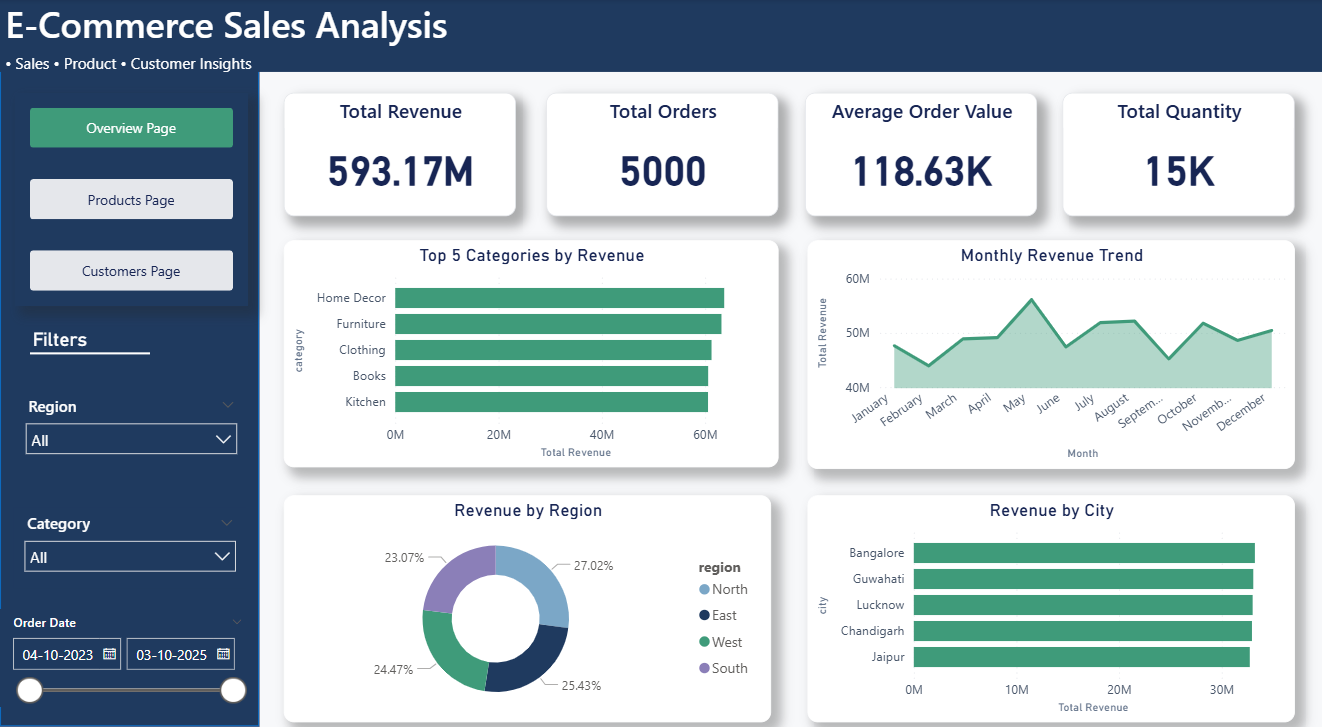

Layout of this report page (visuals, bound fields, positions):
{"tool":"powerbi","page":{"name":"Overview Page","canvas":[1280,720],"ordinal":0},"visuals":[{"type":"shape","box":[20.5,272.7,86.9,45.8],"z":0},{"type":"shape","box":[0,52.2,250,650],"z":1000},{"type":"card","title":"Total Revenue","fields":{"Values":["ecommerce_sales.Total Revenue"]},"box":[273.9,90.5,224.4,119.4],"z":2000},{"type":"card","title":"Total Orders","fields":{"Values":["ecommerce_sales.Total Orders"]},"box":[527.2,90.5,224.4,119.4],"z":3000},{"type":"card","title":"Total Quantity","fields":{"Values":["ecommerce_sales.Total Quantity"]},"box":[1025.5,90.5,224.4,119.4],"z":4000},{"type":"card","title":"Average Order Value","fields":{"Values":["ecommerce_sales.Average Order Value"]},"box":[776.9,90.5,224.4,119.4],"z":5000},{"type":"slicer","title":"Region","fields":{"Values":["ecommerce_sales.region"]},"box":[14.5,377.6,224.4,79.6],"z":6000},{"type":"slicer","fields":{"Values":["ecommerce_sales.category"]},"box":[13.3,491,224.4,77.2],"z":7000},{"type":"slicer","fields":{"Values":["ecommerce_sales.order_date"]},"box":[0,588.7,246.1,94.1],"z":8000},{"type":"clusteredBarChart","title":"Top 5 Categories by Revenue","fields":{"Category":["ecommerce_sales.category"],"Y":["ecommerce_sales.Total Revenue"]},"box":[273.9,232.8,477.8,219.6],"z":9000},{"type":"donutChart","title":"Revenue by Region","fields":{"Category":["ecommerce_sales.region"],"Y":["ecommerce_sales.Total Revenue"]},"box":[273.9,479,470.5,219.6],"z":10000},{"type":"lineChart","title":"Monthly Revenue Trend","fields":{"Category":["ecommerce_sales.order_date.Variation.Date Hierarchy.Month"],"Y":["ecommerce_sales.Total Revenue"]},"box":[779.4,232.8,470.5,220.8],"z":11000},{"type":"clusteredBarChart","title":"Revenue by City","fields":{"Category":["ecommerce_sales.city"],"Y":["ecommerce_sales.Total Revenue"]},"box":[779.4,479,470.5,219.6],"z":12000},{"type":"pageNavigator","box":[14.4,90,224.4,205.6],"z":13000},{"type":"textbox","title":"E-Commerce Sales Analysis","box":[0,0,1280,70],"z":14000},{"type":"textbox","title":"Filters","box":[26.5,318.5,200.3,25.3],"z":15000},{"type":"shape","box":[29,330.6,115.8,22.9],"z":16000}]}

Visuals, with their boxes in screenshot pixels (x1, y1, x2, y2), scaled from the page's 1280x720 canvas onto the 1322x727 screenshot:
shape: left=21, top=275, right=111, bottom=322
shape: left=0, top=53, right=258, bottom=709
"Total Revenue" card: left=283, top=91, right=515, bottom=212
"Total Orders" card: left=544, top=91, right=776, bottom=212
"Total Quantity" card: left=1059, top=91, right=1291, bottom=212
"Average Order Value" card: left=802, top=91, right=1034, bottom=212
"Region" slicer: left=15, top=381, right=247, bottom=462
slicer - ecommerce_sales.category: left=14, top=496, right=245, bottom=574
slicer - ecommerce_sales.order_date: left=0, top=594, right=254, bottom=689
"Top 5 Categories by Revenue" clusteredBarChart: left=283, top=235, right=776, bottom=457
"Revenue by Region" donutChart: left=283, top=484, right=769, bottom=705
"Monthly Revenue Trend" lineChart: left=805, top=235, right=1291, bottom=458
"Revenue by City" clusteredBarChart: left=805, top=484, right=1291, bottom=705
pageNavigator: left=15, top=91, right=247, bottom=298
"E-Commerce Sales Analysis" textbox: left=0, top=0, right=1321, bottom=71
"Filters" textbox: left=27, top=322, right=234, bottom=347
shape: left=30, top=334, right=150, bottom=357
